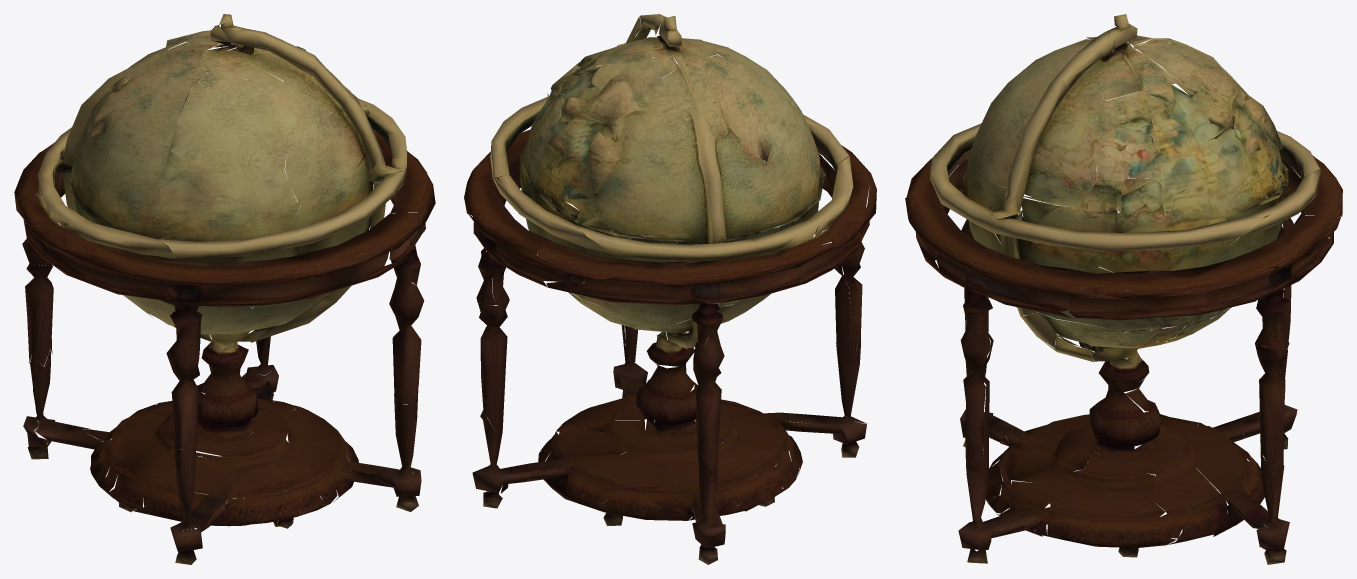
Rendered from cp_globe.glb.
3 renders of one model, left to right at view 1: azimuth 30°, elevation 25°; view 2: azimuth 150°, elevation 25°; view 3: azimuth 270°, elevation 25°, orthographic. The views are drawn at different scales.
Parts seen in each view (by area): view 1: tripo_node_e53447df-fe08-4a50-9be8-7c992b33e9a0; view 2: tripo_node_e53447df-fe08-4a50-9be8-7c992b33e9a0; view 3: tripo_node_e53447df-fe08-4a50-9be8-7c992b33e9a0.
Boxes of the visible parts, x1,y1,x2,y2 form: tripo_node_e53447df-fe08-4a50-9be8-7c992b33e9a0: (14, 14, 435, 564); tripo_node_e53447df-fe08-4a50-9be8-7c992b33e9a0: (464, 14, 876, 564); tripo_node_e53447df-fe08-4a50-9be8-7c992b33e9a0: (905, 14, 1342, 564).
Bounding box in the file's own units: 0.8081 × 0.9976 × 0.8019.
Materials: 1 (1 with a texture image).
